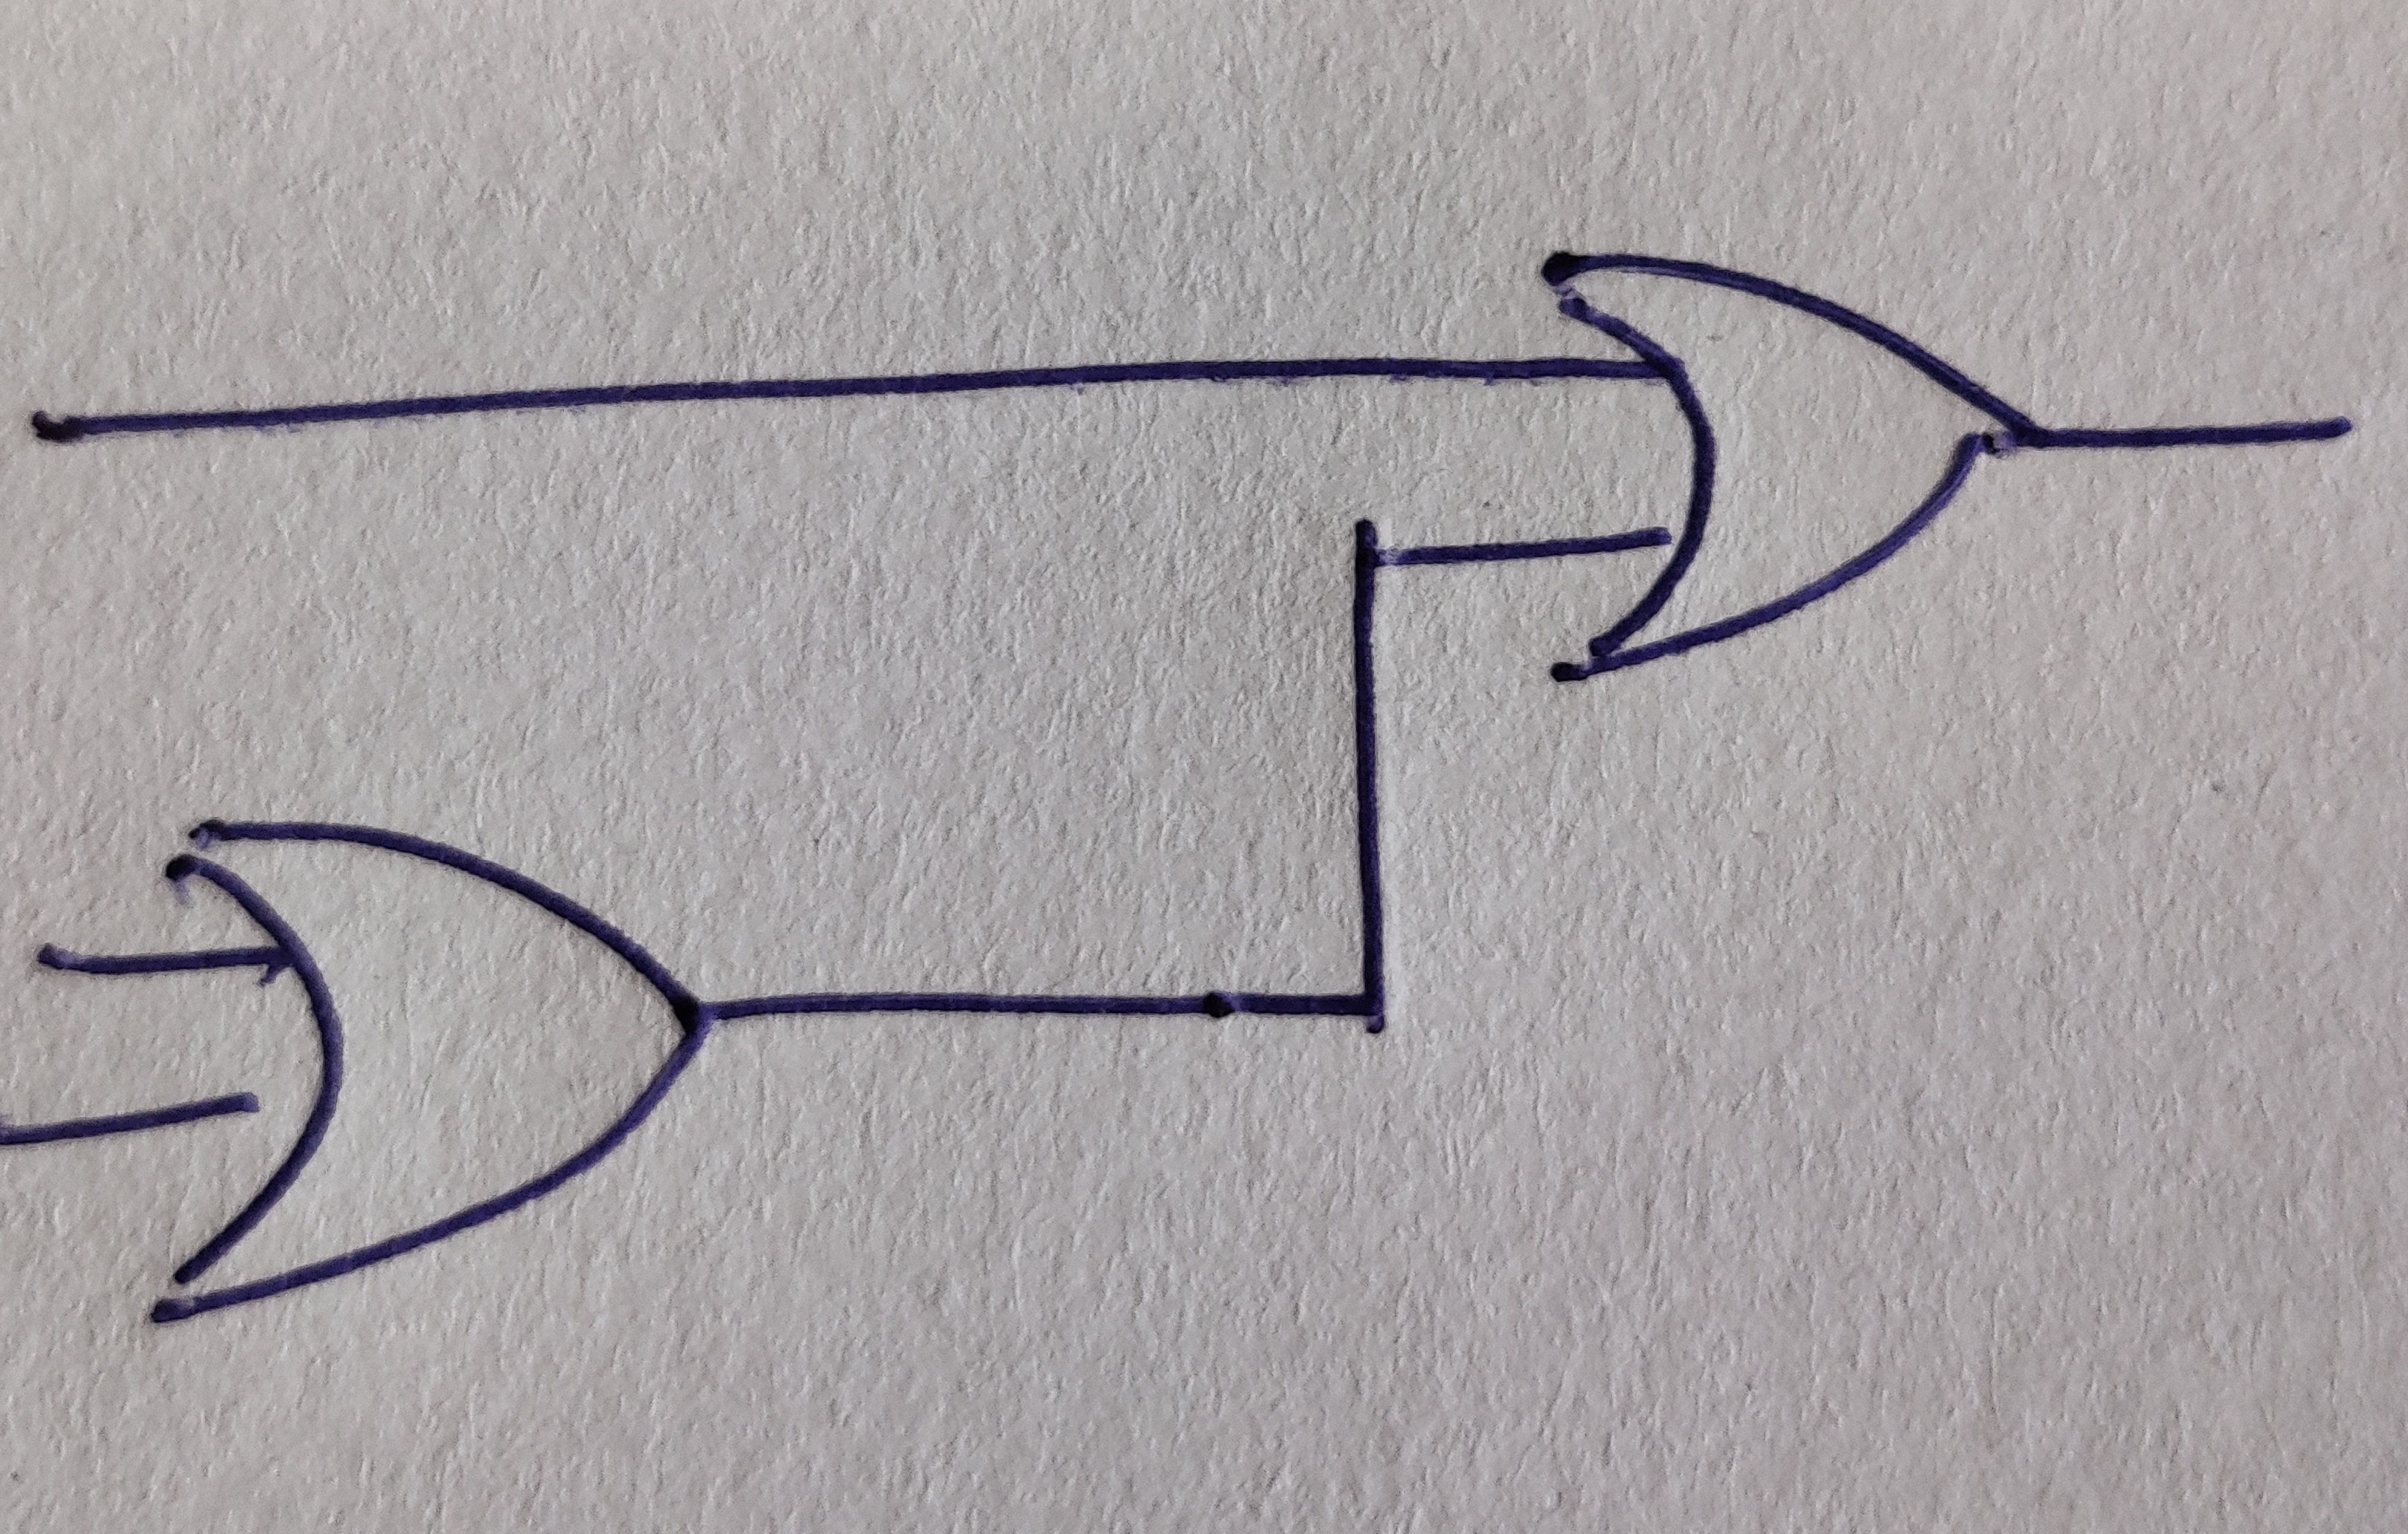or: (151, 821, 709, 1330), (1539, 249, 2038, 681)
